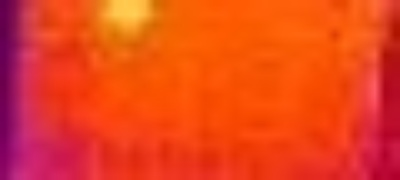Hotspot: (102, 1, 161, 35)
